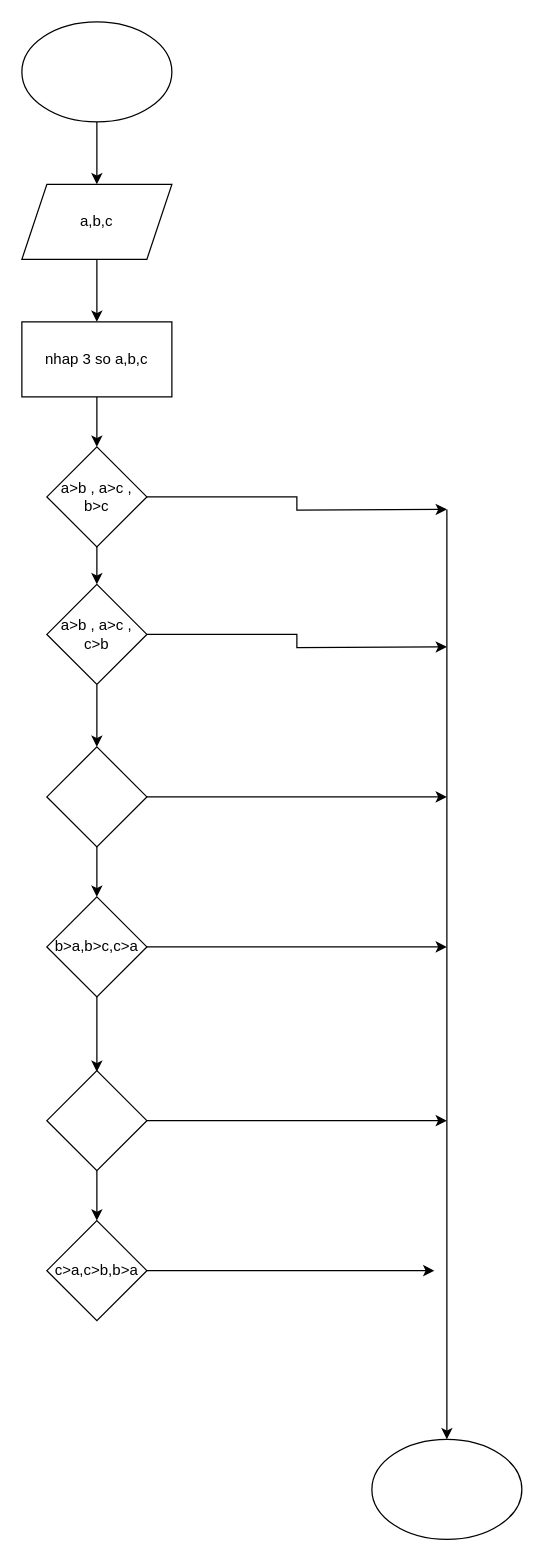
Image size: 544x1561. Some labels were removed from this diagram. Here are the shapes that lost their labels. From the top down, the box of each, then its label:
(21, 21, 172, 122): begin
(46, 746, 147, 847): b>a,b>c,a>c
(46, 1069, 147, 1171): c>a,c>b,a>b
